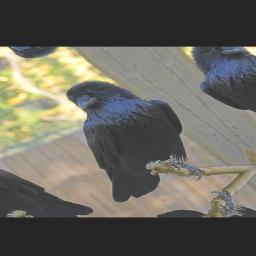Crow: (7, 66, 240, 207)
